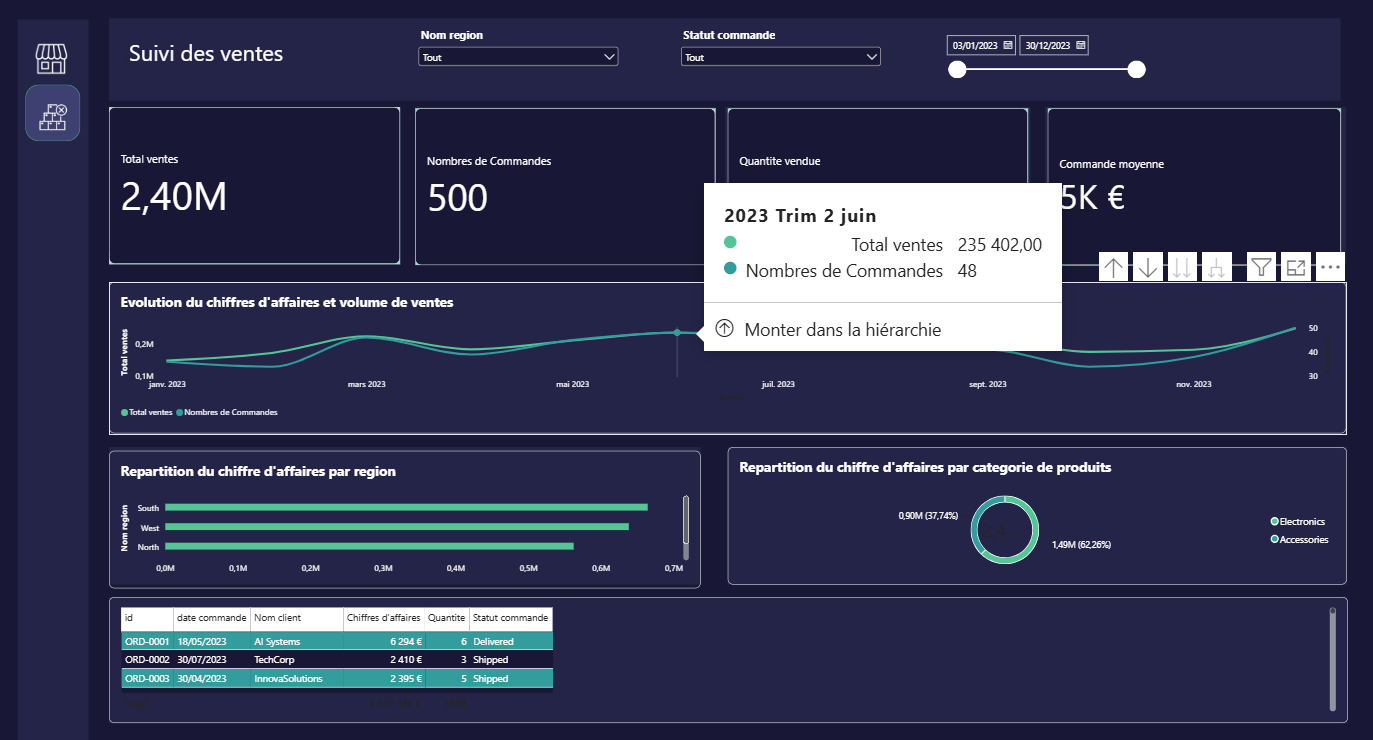

The dashboard page shown, as its layout file describes it:
{"tool":"powerbi","page":{"name":"Suivi vente","canvas":[2000,1080],"ordinal":0},"visuals":[{"type":"shape","box":[27.9,32.1,102.9,1047.9],"z":0},{"type":"shape","box":[160,30,1790,120],"z":1000},{"type":"shape","box":[160,160.8,424.2,228.3],"z":2000},{"type":"shape","box":[605,160,436.2,228.8],"z":3000},{"type":"shape","box":[1055,160,443.8,228.8],"z":4000},{"type":"shape","box":[1520,160,437.5,228.8],"z":5000},{"type":"shape","box":[160,416,1800,220],"z":6000},{"type":"shape","box":[160,654,860,200],"z":7000},{"type":"shape","box":[1060,654,900,200],"z":8000},{"type":"shape","box":[160,872,1800,183.8],"z":9000},{"type":"textbox","box":[100,100,300,300],"z":10000},{"type":"textbox","box":[100,100,300,300],"z":11000},{"type":"textbox","box":[181,57.9,300.4,67],"z":12000},{"type":"cardVisual","fields":{"Data":["Clients.Total ventes"]},"box":[159.9,159.9,423.3,228.9],"z":13000},{"type":"cardVisual","fields":{"Data":["ventes.Quantite vendue"]},"box":[1058.3,161.7,436.7,228.3],"z":14000},{"type":"cardVisual","fields":{"Data":["ventes.Commande moyenne"]},"box":[1523.8,161.2,426.2,228.8],"z":15000},{"type":"cardVisual","fields":{"Data":["ventes.Nombres de Commandes"]},"box":[605,161.2,436.7,228.3],"z":16000},{"type":"lineChart","title":"Evolution du chiffres d''affaires et volume de ventes","fields":{"Category":["ventes.date commande.Variation.Hiérarchie de dates.Année","ventes.date commande.Variation.Hiérarchie de dates.Trimestre","ventes.date commande.Variation.Hiérarchie de dates.Mois"],"Y":["Mesure.Total ventes"],"Y2":["Mesure.Nombres de Commandes"]},"box":[160,415,1798,220],"z":17000},{"type":"donutChart","title":"Repartition du chiffre d''affaires par categorie de produits","fields":{"Category":["Produits.categorie"],"Y":["Mesure.Total ventes"]},"box":[1060,653.6,900,200],"z":18000},{"type":"barChart","title":"Repartition du chiffre d''affaires par region","fields":{"Category":["region.Nom region"],"Y":["Mesure.Total ventes"]},"box":[160,659.1,860,200],"z":19000},{"type":"tableEx","fields":{"Values":["ventes.id","ventes.date commande","Clients.Nom client","Sum(ventes.prix total)","Sum(ventes.Quantite)","ventes.Statut commande"]},"box":[159.9,872.1,1800.5,183.5],"z":20000},{"type":"slicer","fields":{"Values":["region.Nom region"]},"box":[605,43.8,300,83.3],"z":21000},{"type":"slicer","fields":{"Values":["ventes.Statut commande"]},"box":[986.2,43.8,300,83.3],"z":22000},{"type":"slicer","fields":{"Values":["ventes.date commande"]},"box":[1370,50,300,83.3],"z":23000},{"type":"shape","box":[38.8,127.5,80,82.5],"z":25000},{"type":"image","box":[44.2,60,65,60],"z":26000},{"type":"image","box":[49.2,150,58.9,47.8],"z":26500}]}

Visuals, with their boxes on the page's 2000x1080 design canvas (x1, y1, x2, y2). These are canvas units, not pixel positions in the 1373x740 screenshot, which may show the page scaled, cropped or inside an application window:
shape: bbox=[28, 32, 131, 1080]
shape: bbox=[160, 30, 1950, 150]
shape: bbox=[160, 161, 584, 389]
shape: bbox=[605, 160, 1041, 389]
shape: bbox=[1055, 160, 1499, 389]
shape: bbox=[1520, 160, 1958, 389]
shape: bbox=[160, 416, 1960, 636]
shape: bbox=[160, 654, 1020, 854]
shape: bbox=[1060, 654, 1960, 854]
shape: bbox=[160, 872, 1960, 1056]
textbox: bbox=[100, 100, 400, 400]
textbox: bbox=[100, 100, 400, 400]
textbox: bbox=[181, 58, 481, 125]
cardVisual - Clients.Total ventes: bbox=[160, 160, 583, 389]
cardVisual - ventes.Quantite vendue: bbox=[1058, 162, 1495, 390]
cardVisual - ventes.Commande moyenne: bbox=[1524, 161, 1950, 390]
cardVisual - ventes.Nombres de Commandes: bbox=[605, 161, 1042, 390]
"Evolution du chiffres d''affaires et volume de ventes" lineChart: bbox=[160, 415, 1958, 635]
"Repartition du chiffre d''affaires par categorie de produits" donutChart: bbox=[1060, 654, 1960, 854]
"Repartition du chiffre d''affaires par region" barChart: bbox=[160, 659, 1020, 859]
tableEx - ventes.id x ventes.date commande: bbox=[160, 872, 1960, 1056]
slicer - region.Nom region: bbox=[605, 44, 905, 127]
slicer - ventes.Statut commande: bbox=[986, 44, 1286, 127]
slicer - ventes.date commande: bbox=[1370, 50, 1670, 133]
shape: bbox=[39, 128, 119, 210]
image: bbox=[44, 60, 109, 120]
image: bbox=[49, 150, 108, 198]
